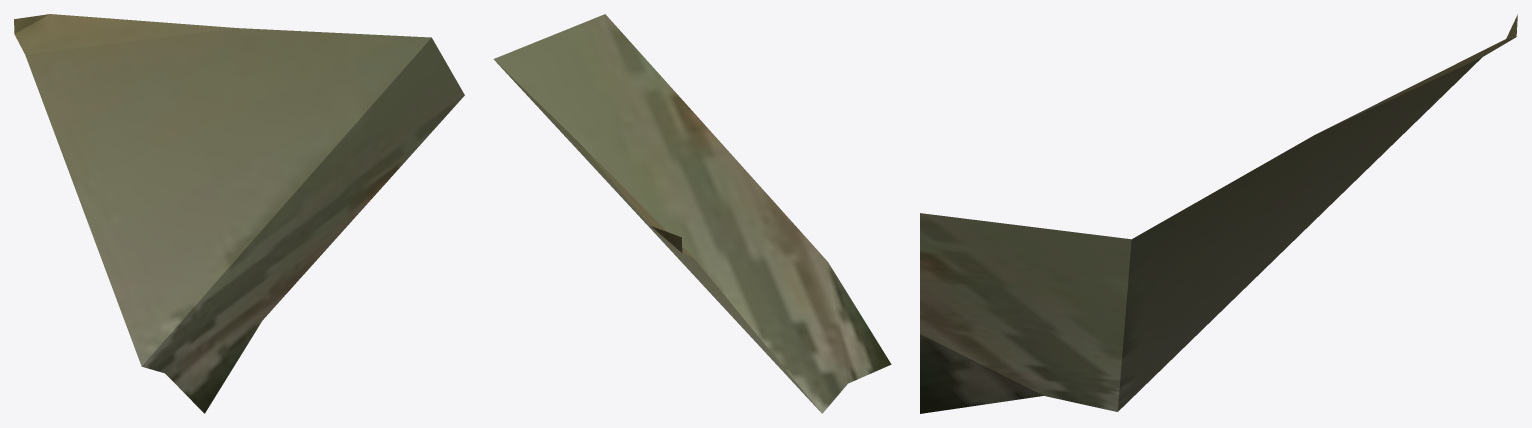
The picture shows the model from 3 angles, left to right: view 1: azimuth 30°, elevation 25°; view 2: azimuth 150°, elevation 25°; view 3: azimuth 270°, elevation 25°; orthographic projection. The views are drawn at different scales.
Size of the model in its own units: 0.5712 by 0.4728 by 0.6404.
1 material, 1 textured.
